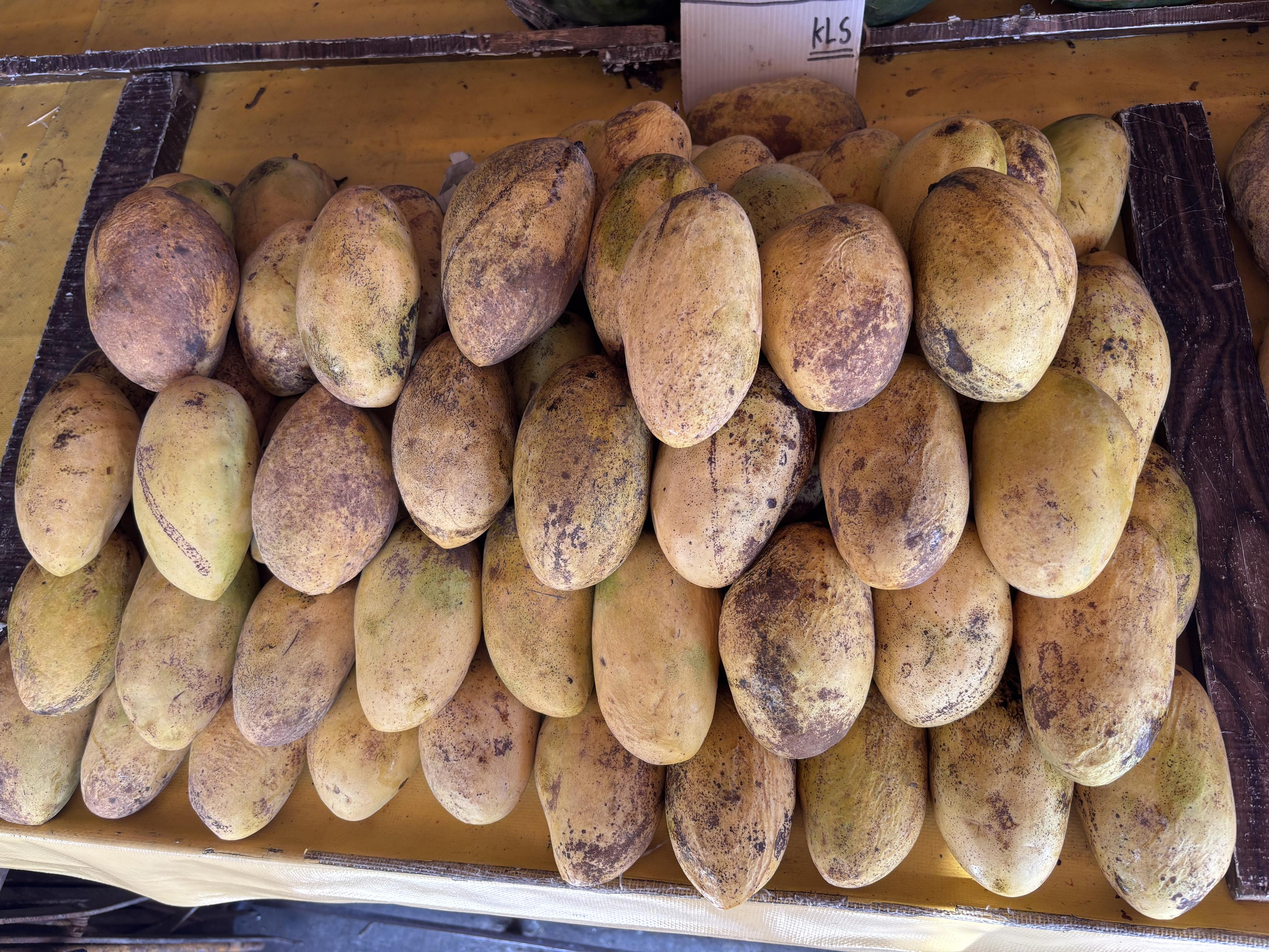mango: (910, 167, 1077, 401), (618, 187, 761, 447), (442, 138, 595, 365), (133, 376, 258, 599), (296, 186, 420, 407), (15, 374, 140, 576), (812, 128, 902, 207)
occluded: (1015, 517, 1175, 785), (1076, 668, 1236, 918), (973, 368, 1139, 597), (651, 365, 816, 588), (719, 523, 874, 758), (821, 355, 969, 589), (929, 666, 1073, 896), (514, 354, 652, 589), (86, 187, 238, 391), (252, 384, 398, 594), (592, 532, 720, 764), (665, 691, 795, 909), (874, 523, 1012, 727), (116, 555, 259, 750), (354, 520, 481, 732), (392, 333, 515, 548), (797, 685, 927, 888), (1053, 252, 1170, 473), (584, 153, 705, 363), (535, 696, 665, 885), (10, 532, 141, 714), (482, 504, 593, 716), (419, 642, 540, 824), (233, 577, 355, 746), (307, 669, 420, 820), (878, 117, 1006, 250), (189, 698, 305, 840), (0, 665, 95, 824), (81, 679, 188, 818), (687, 77, 864, 159), (235, 219, 316, 396), (1131, 443, 1200, 634), (1042, 114, 1128, 255), (588, 101, 691, 213), (231, 157, 335, 264), (380, 185, 445, 351), (507, 311, 601, 416), (731, 164, 833, 247), (989, 119, 1061, 211), (693, 135, 775, 191), (168, 178, 233, 237), (560, 119, 605, 161), (144, 172, 197, 187)
